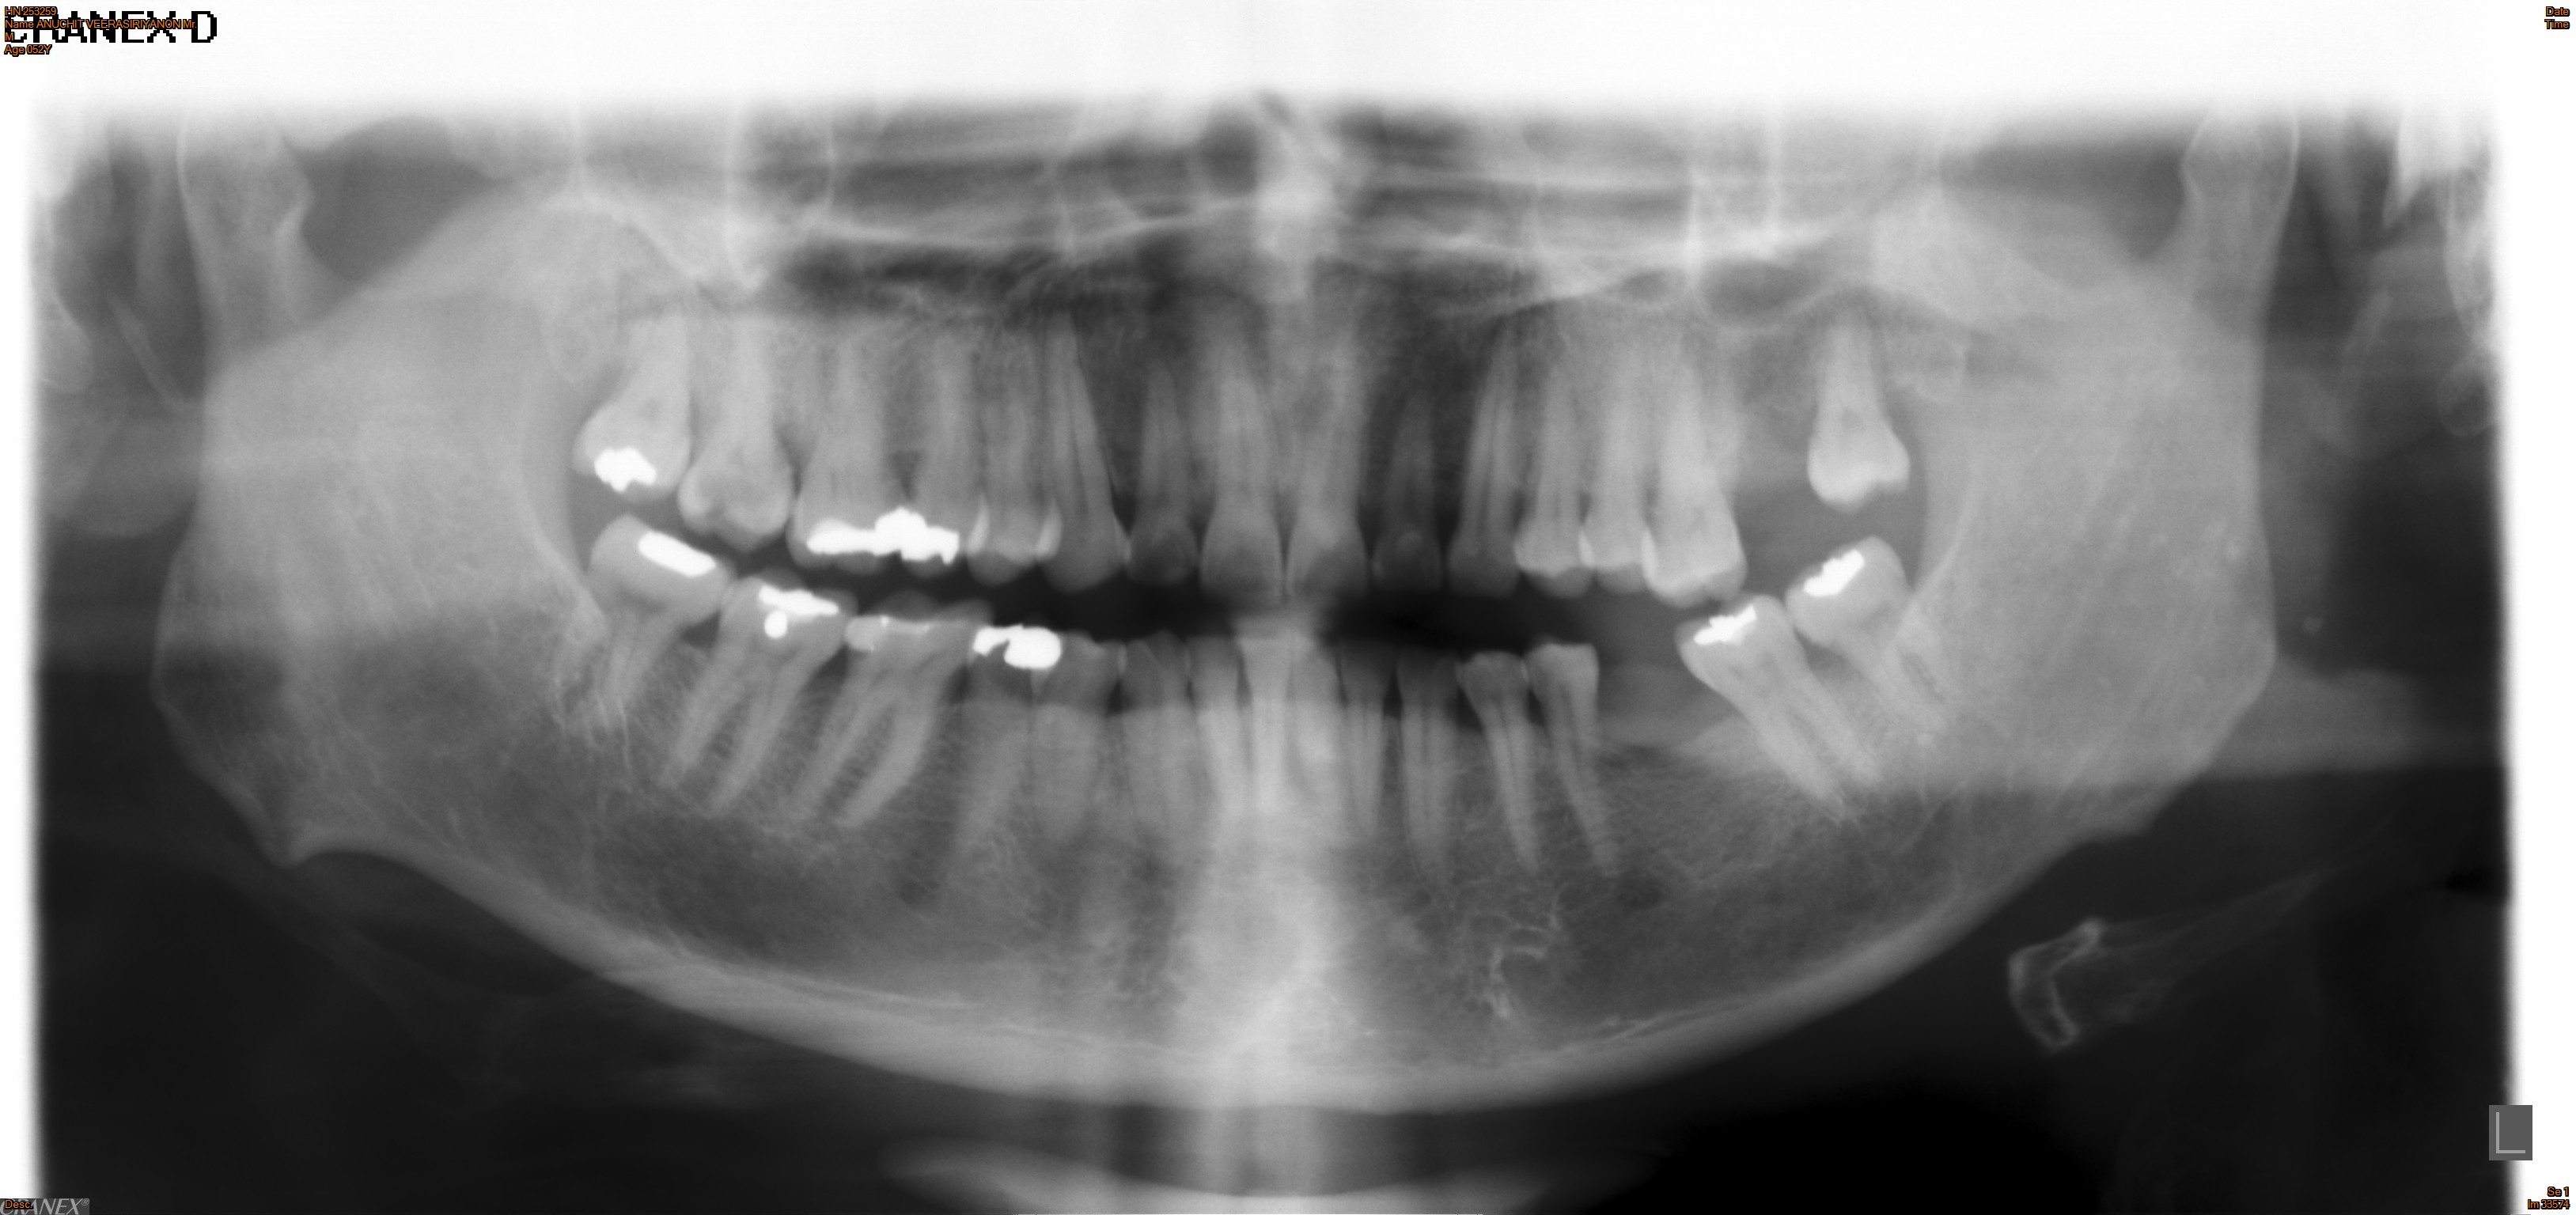periodontitis: (1666, 593, 1893, 832), (532, 507, 738, 757), (1774, 525, 1986, 755), (1511, 630, 1638, 896)
